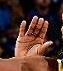down: (7, 16, 55, 60)
